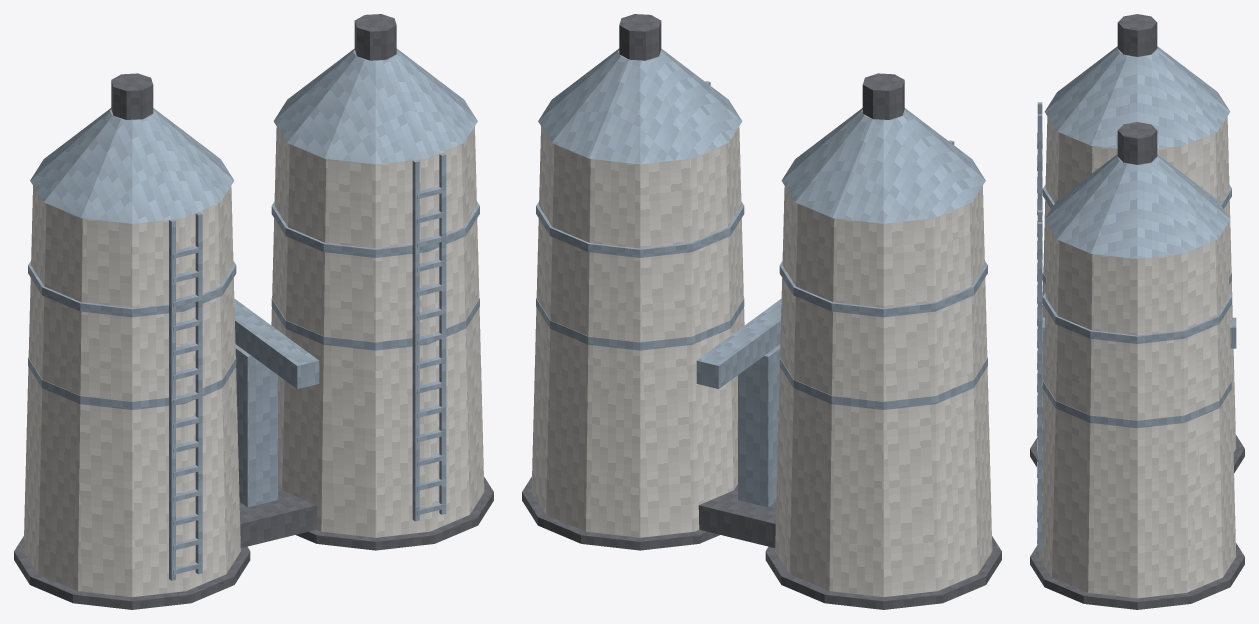
Rendered from pixel-modern-farm-grain-silo-pair-4e9532ec__29099.glb.
3 renders of one model, left to right at view 1: azimuth 30°, elevation 25°; view 2: azimuth 150°, elevation 25°; view 3: azimuth 270°, elevation 25°, orthographic. The views are drawn at different scales.
Visible parts, largest first — view 1: grain-silo-pair; view 2: grain-silo-pair; view 3: grain-silo-pair.
Part boxes in pixels (<box>): grain-silo-pair: <box>14,14,493,609</box>; grain-silo-pair: <box>522,14,1001,609</box>; grain-silo-pair: <box>1030,14,1244,609</box>.
Size of the model in its own units: 8.1 by 8.25 by 3.7.
3 materials, 3 textured.
